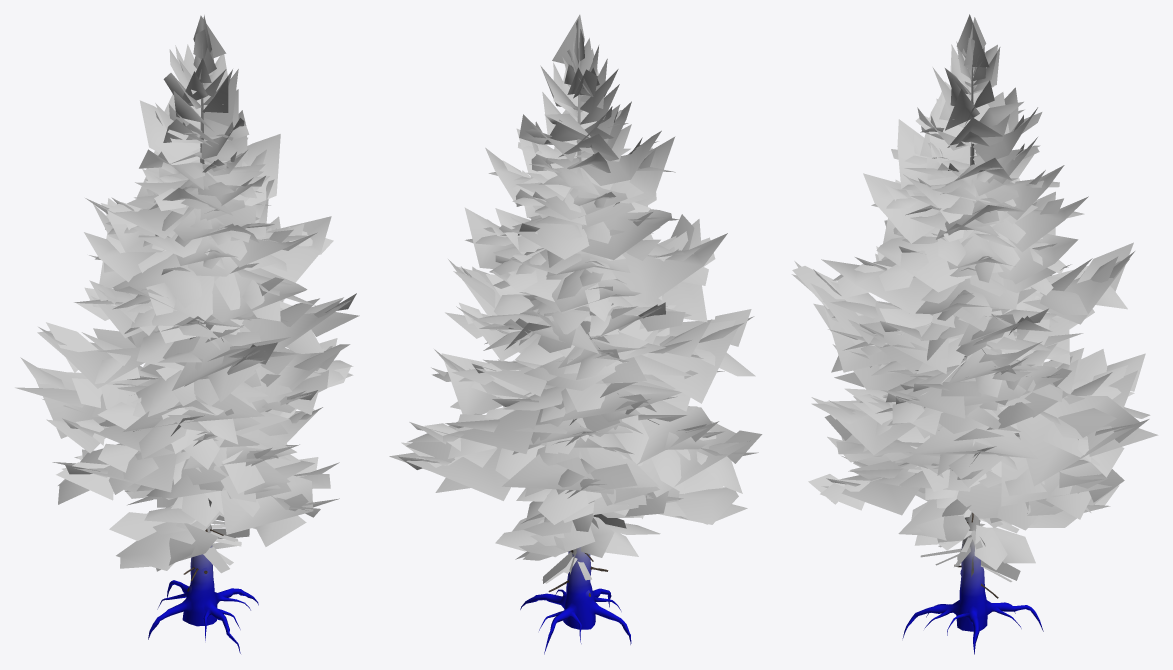
Rendered from Tree5_LOD0.fbx.
The picture shows the model from 3 angles, left to right: view 1: azimuth 30°, elevation 25°; view 2: azimuth 150°, elevation 25°; view 3: azimuth 270°, elevation 25°; orthographic projection.
Parts seen in each view (by area): view 1: polySurface1963; view 2: polySurface1963; view 3: polySurface1963.
Boxes of the visible parts, bbox=[...] form: polySurface1963: bbox=[15, 15, 359, 653]; polySurface1963: bbox=[389, 14, 762, 654]; polySurface1963: bbox=[791, 14, 1158, 654].
Size of the model in its own units: 526 by 994 by 530.
